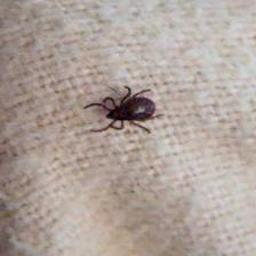Rhipicephalus sanguineus: (82, 85, 165, 135)
